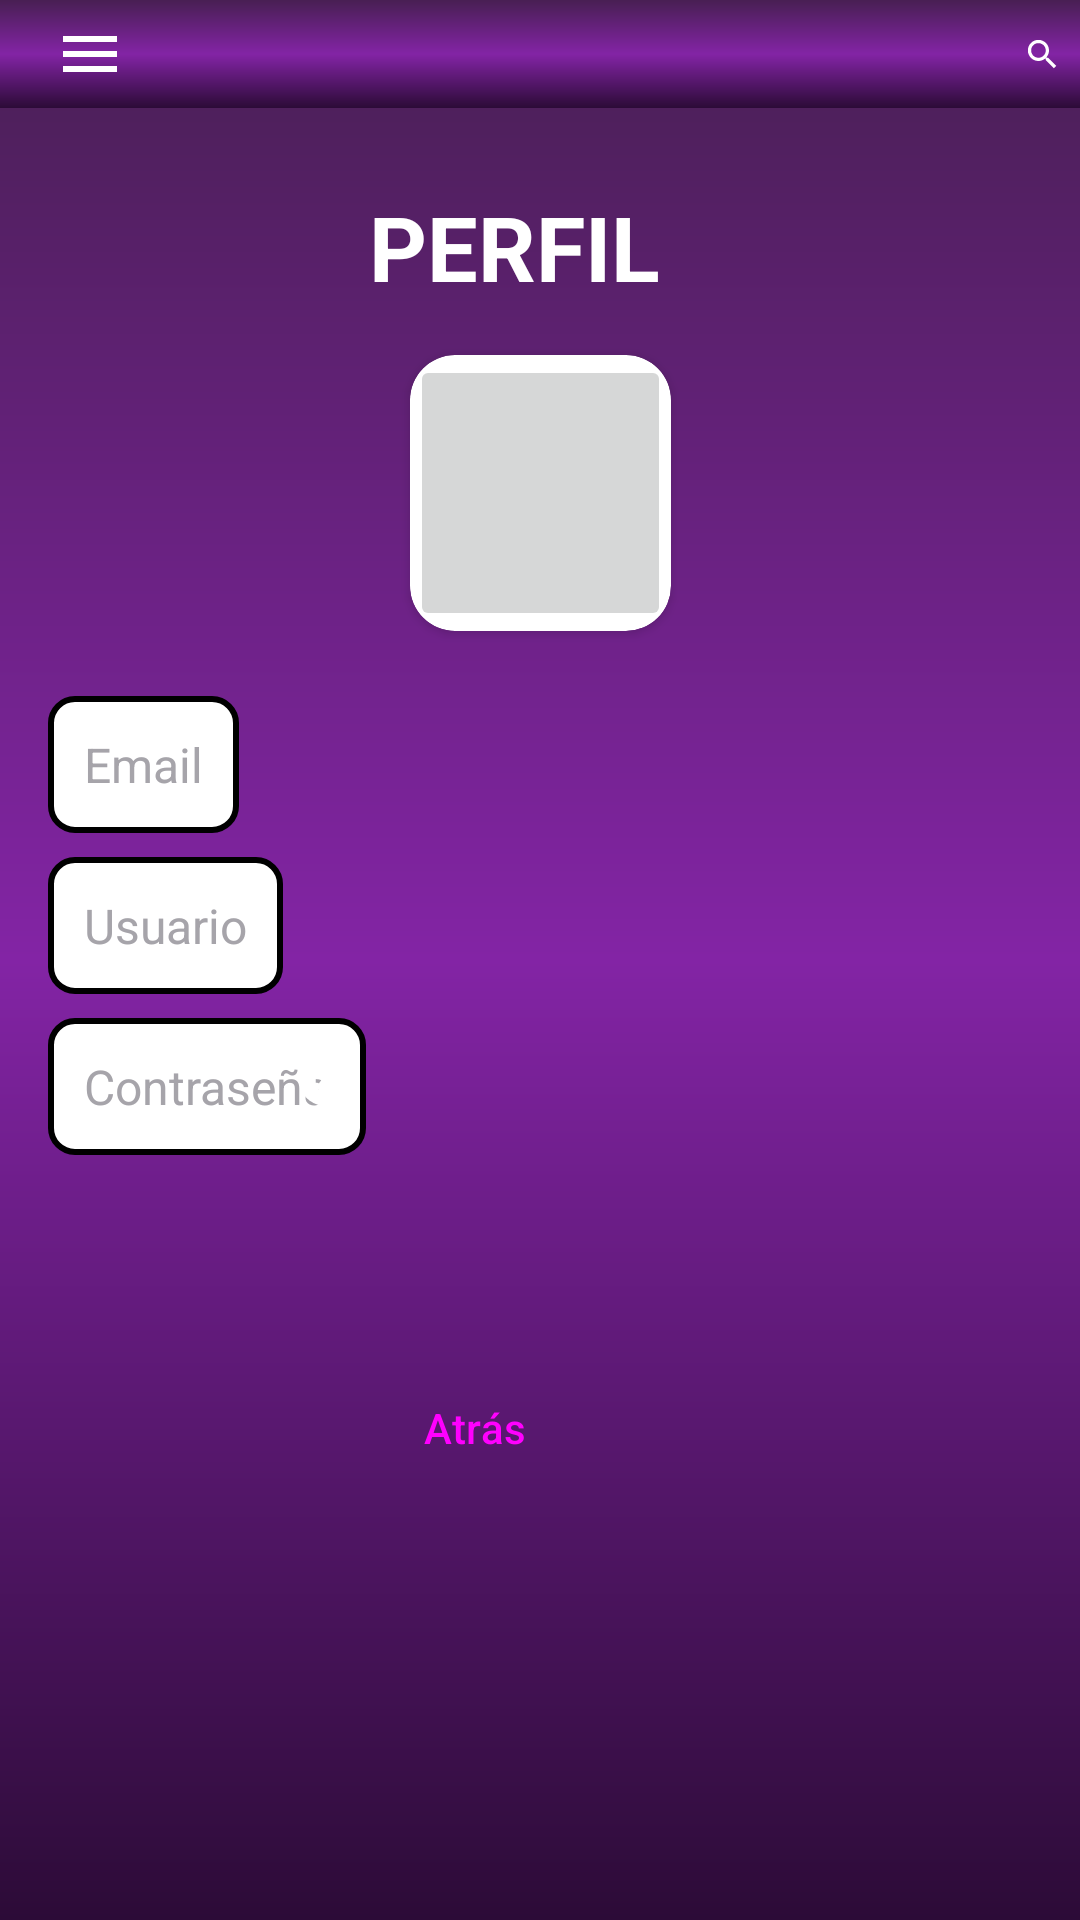

Icons on this 1080×1920 Android screen, each with the point to tap as [x,y]:
lupa: [1042,51]
menu: [90,52]
